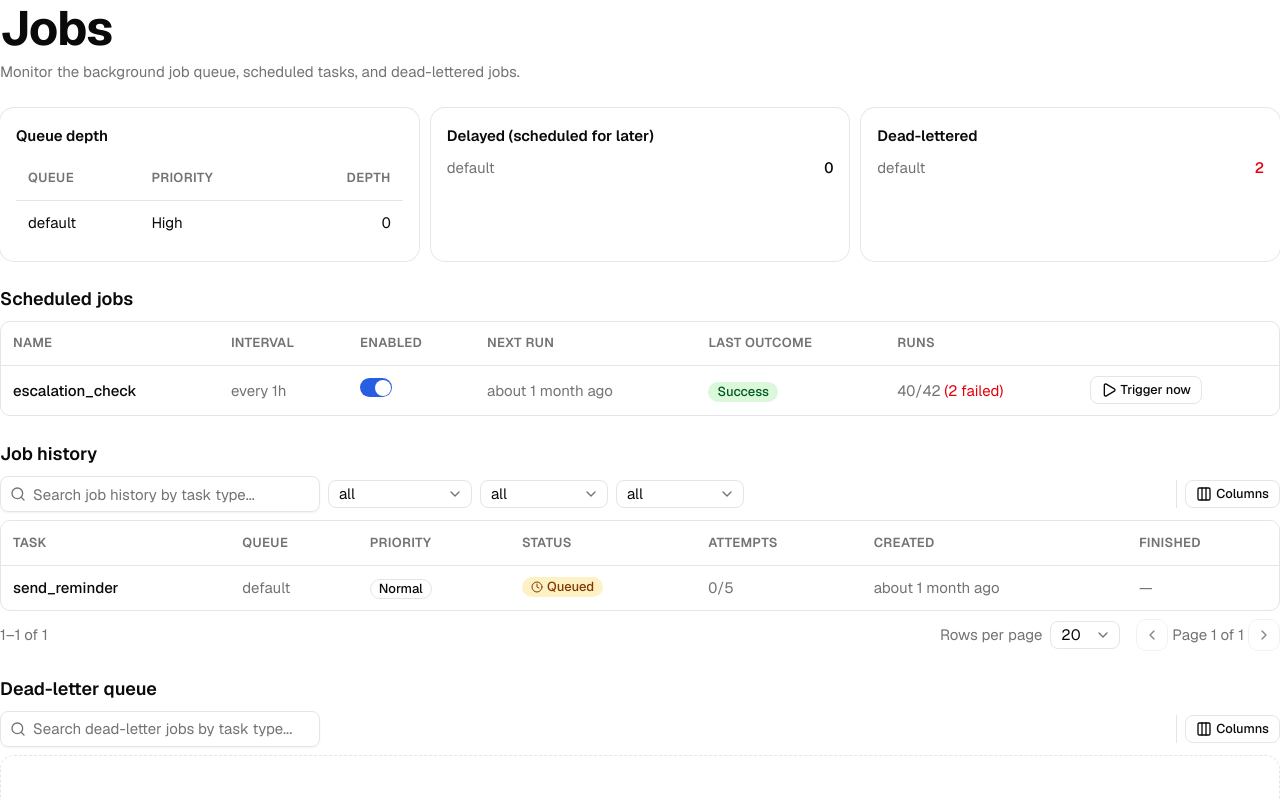
AdminJobsPage › opens the job detail panel with payload JSON when a history row is clicked
The image size is (1280, 800).
Check: the text "send_reminder" is shown, box left=13, top=578, right=118, bottom=596
Click the text "send_reminder".
click(66, 587)  # box left=1, top=565, right=1279, bottom=610
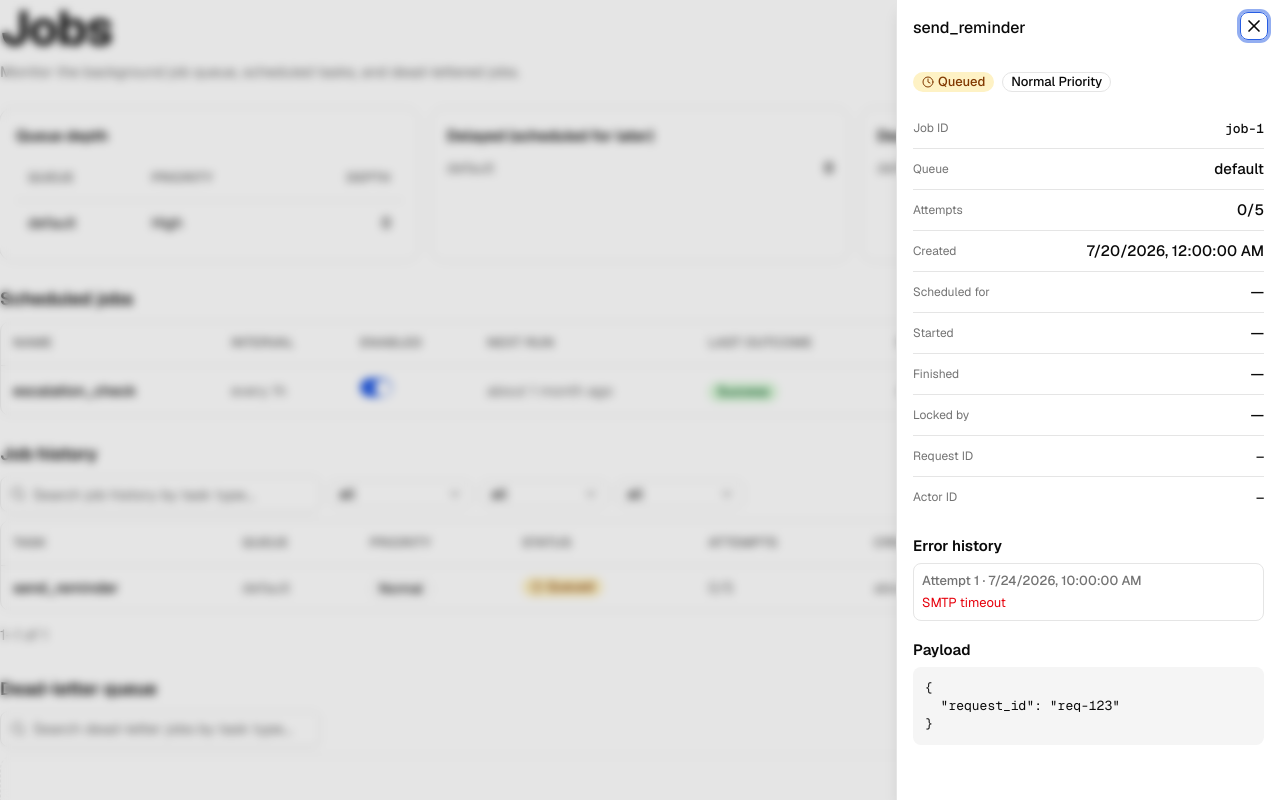
Check: the text "{ \"request_id\": \"req-123\" }" is shown, box left=913, top=667, right=1264, bottom=745
Check: the text "SMTP timeout" is shown, box left=922, top=594, right=1006, bottom=611
